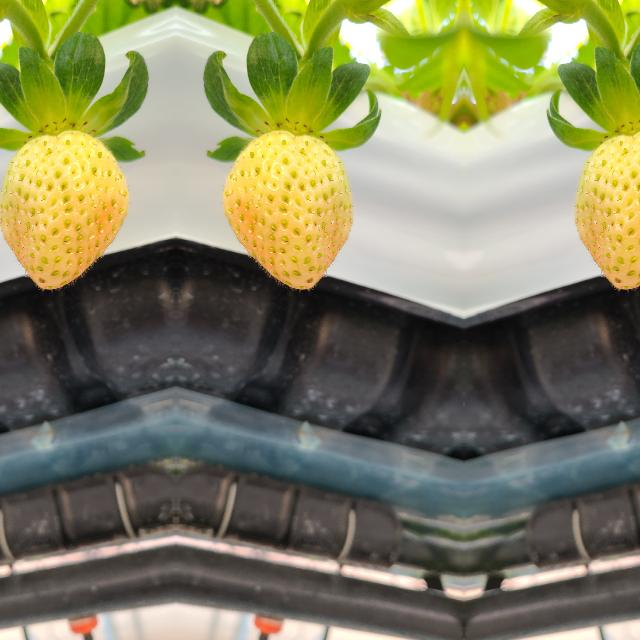Health_50: (220, 130, 352, 290), (0, 129, 130, 290), (574, 129, 640, 290)
